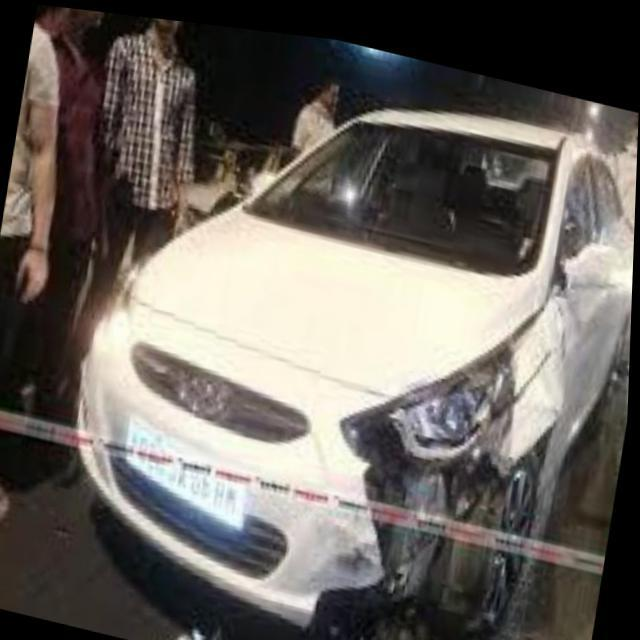no part: (302, 292, 578, 640)
